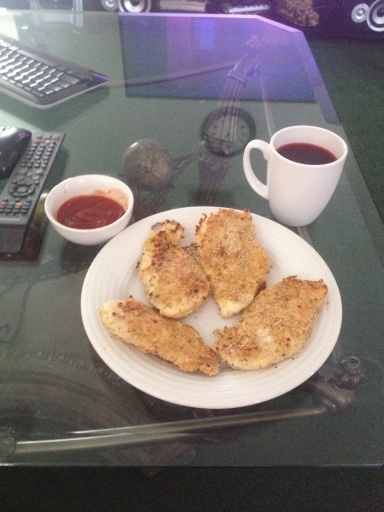background: (58, 135, 197, 300), (37, 18, 202, 131), (34, 28, 74, 182)
